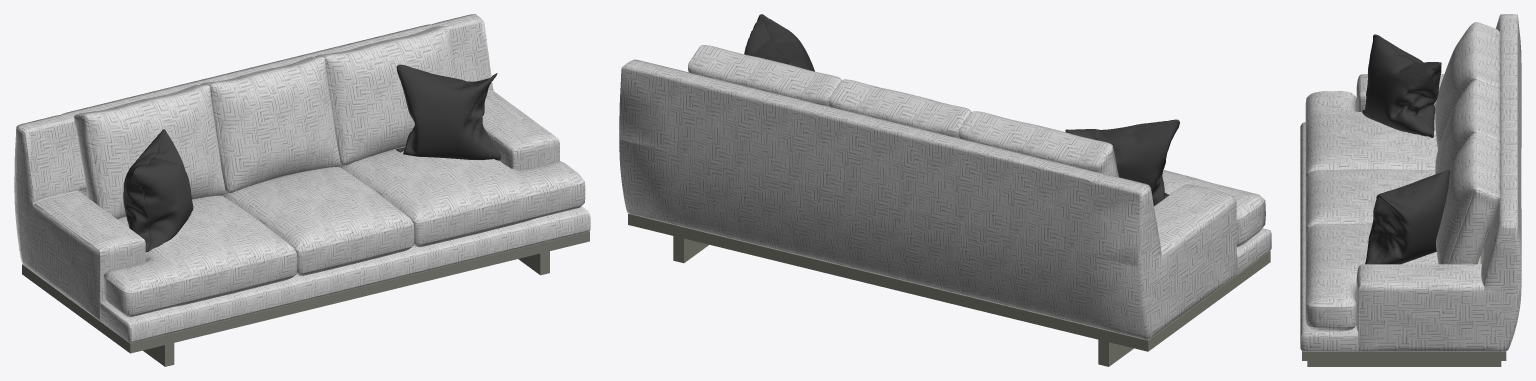
Rendered from burtonjames_6001orionsofa.gltf.
The picture shows the model from 3 angles, left to right: view 1: azimuth 30°, elevation 25°; view 2: azimuth 150°, elevation 25°; view 3: azimuth 270°, elevation 25°; orthographic projection. The views are drawn at different scales.
Visible parts, largest first — view 1: burtonjames_6001orionsofa; view 2: burtonjames_6001orionsofa; view 3: burtonjames_6001orionsofa.
Boxes of the visible parts, x1,y1,x2,y2 form: burtonjames_6001orionsofa: (14,14,590,366); burtonjames_6001orionsofa: (619,14,1271,366); burtonjames_6001orionsofa: (1300,14,1521,366).
Size of the model in its own units: 2504 by 952 by 1101.
3 materials, 1 textured.
